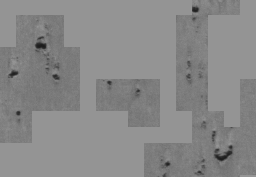oxl: (35, 10, 221, 167)
